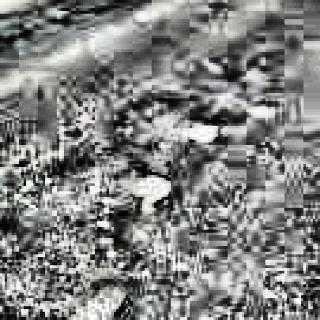pothole: (74, 279, 130, 320), (126, 168, 174, 212), (185, 116, 220, 148)
